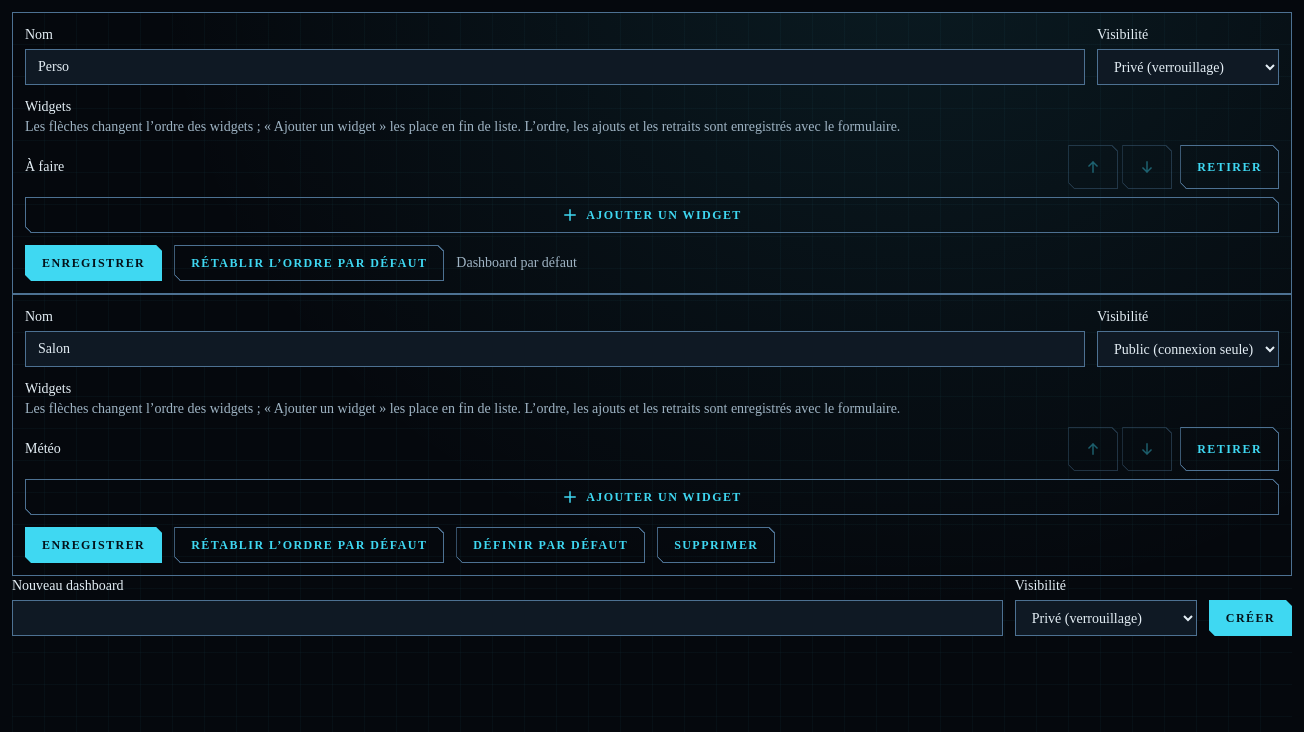
DashboardForms › un code inconnu retombe sur le message d’enregistrement impossible
The width and height of the screenshot is (1304, 732).
Step 1. Click the button "Enregistrer" below "Météo" → (94, 545), box [25,527,162,563]
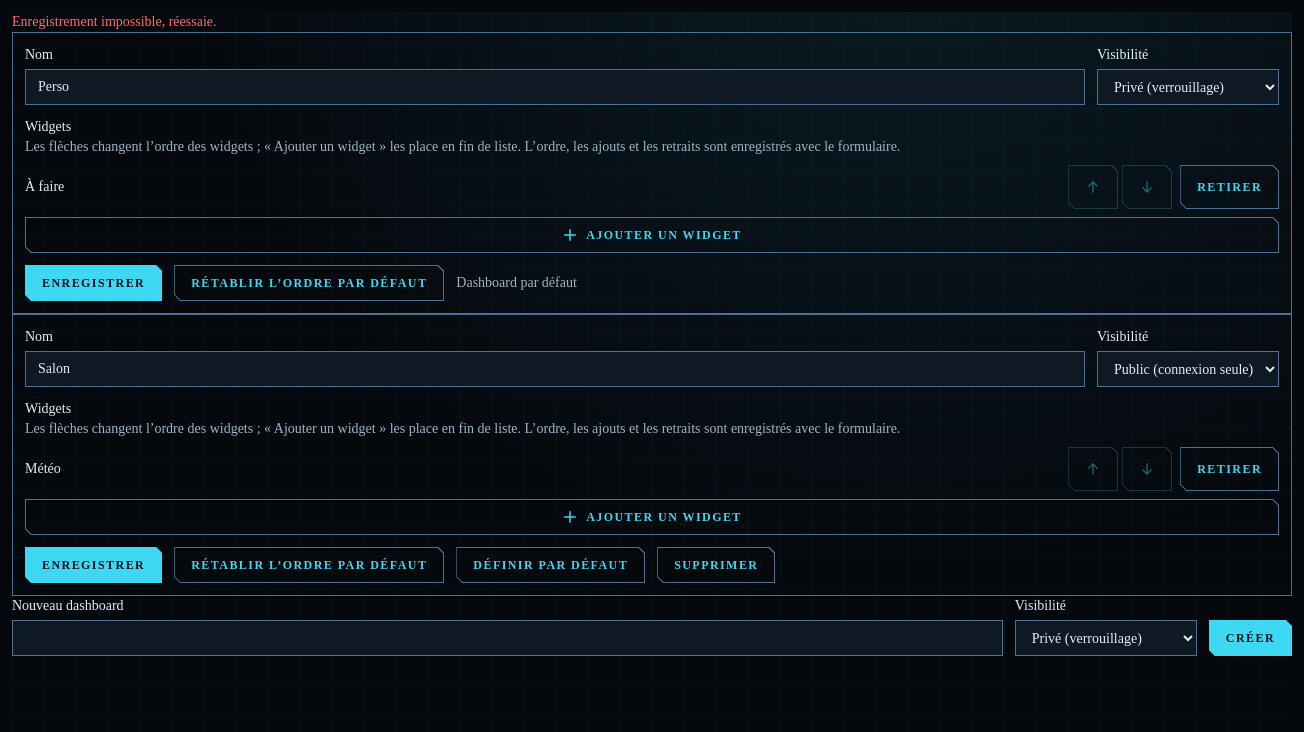
Expected: the message reads "Enregistrement impossible, réessaie.", [12,14,216,29]
